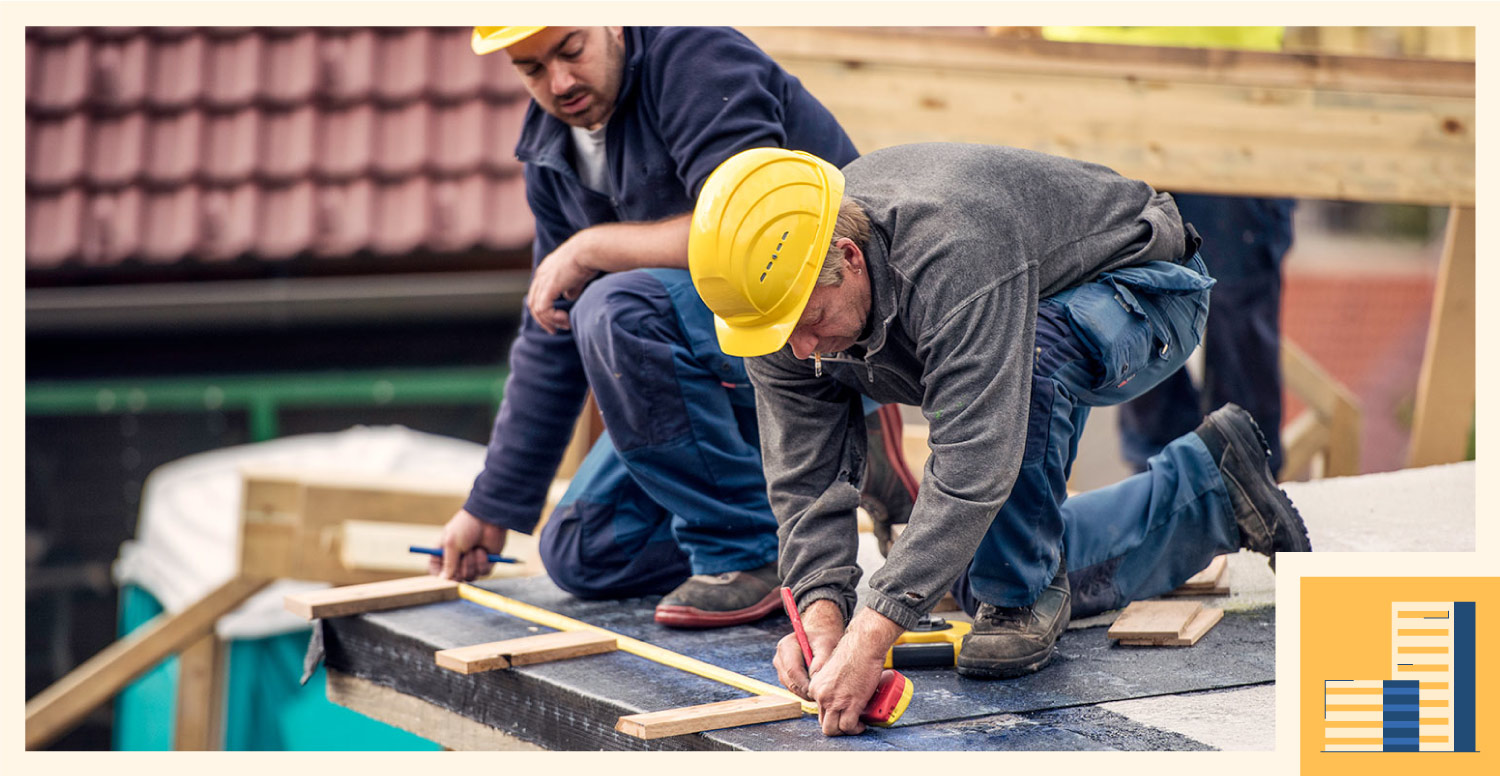hard hat: (687, 146, 846, 354), (470, 23, 545, 55)
